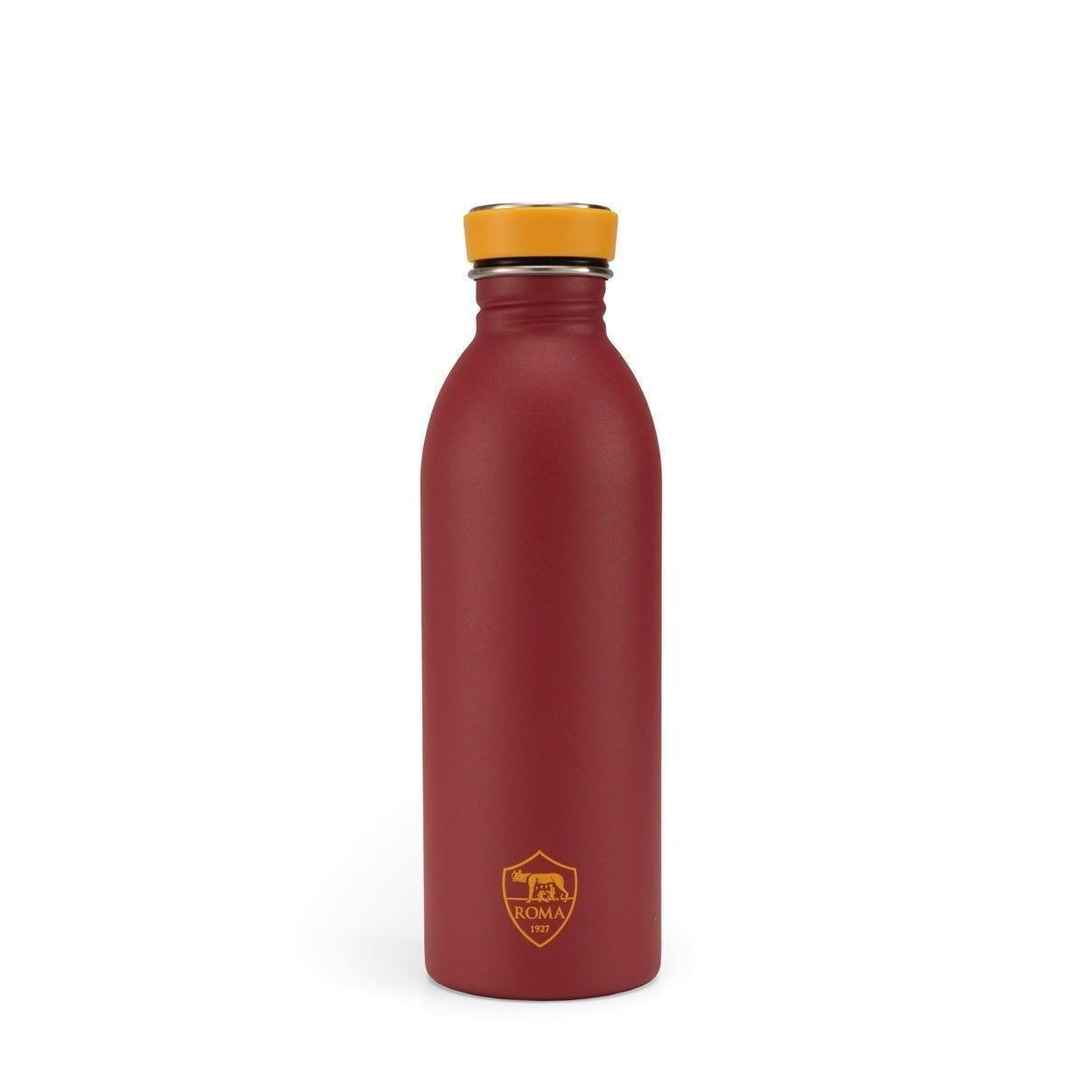gym bottle: (412, 194, 671, 1002)
